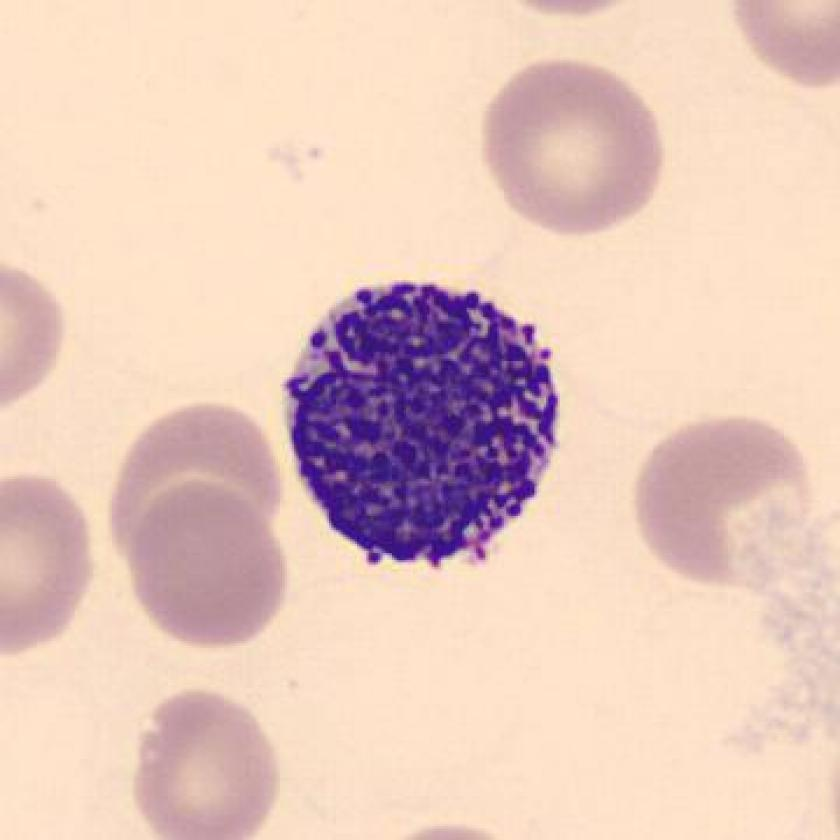basophil: (272, 265, 587, 579)
